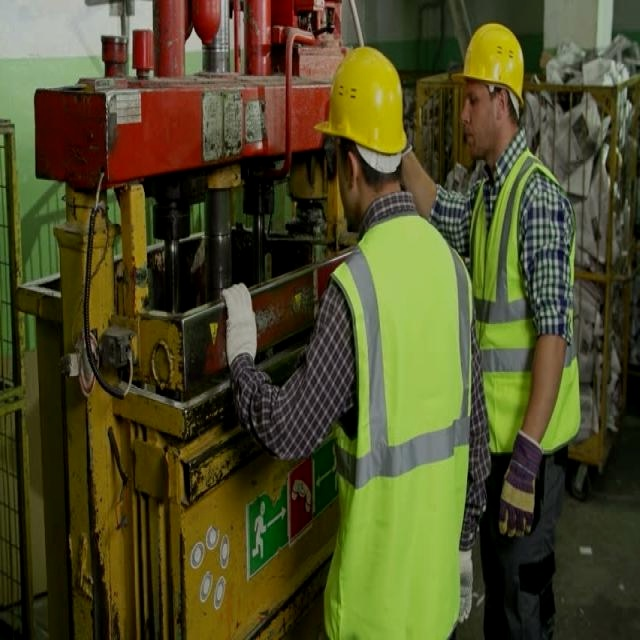Con_Chaleco: (329, 217, 471, 640), (468, 162, 583, 454)
